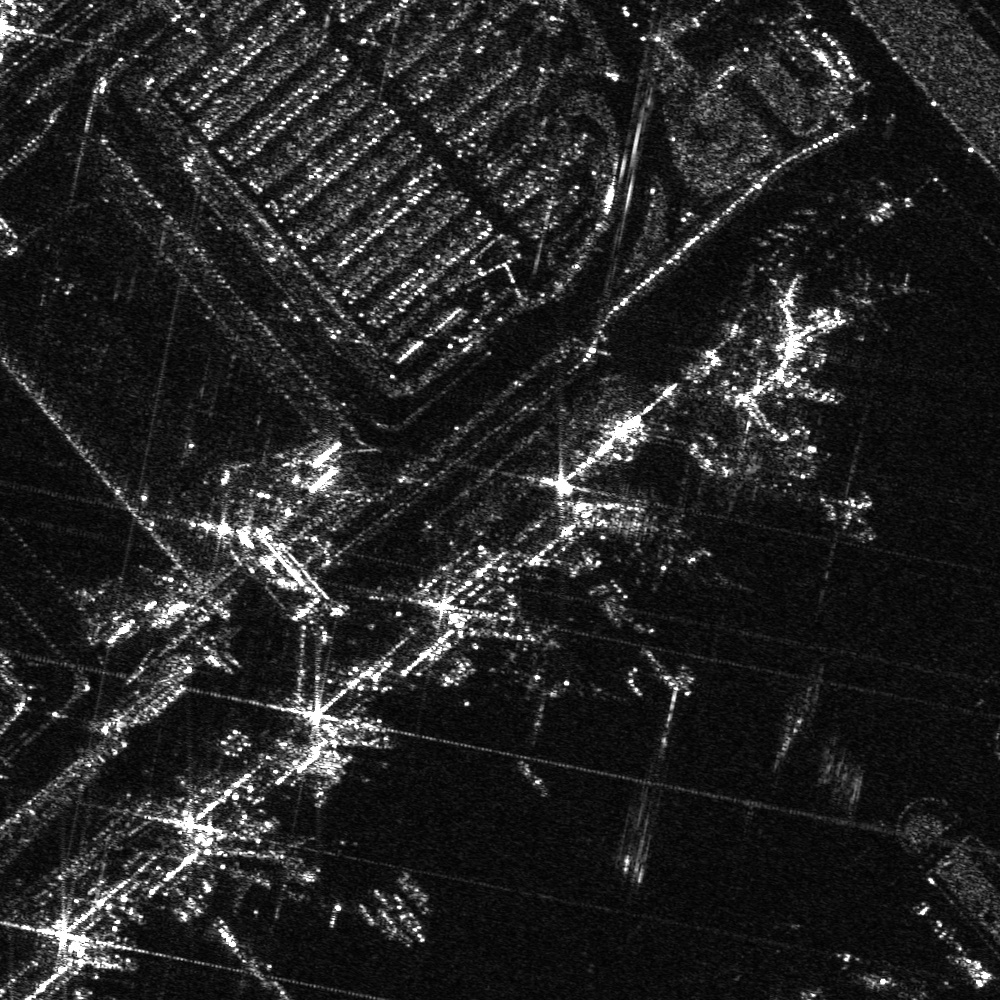A330: (261, 834, 358, 929)
Boeing737: (821, 485, 887, 546)
